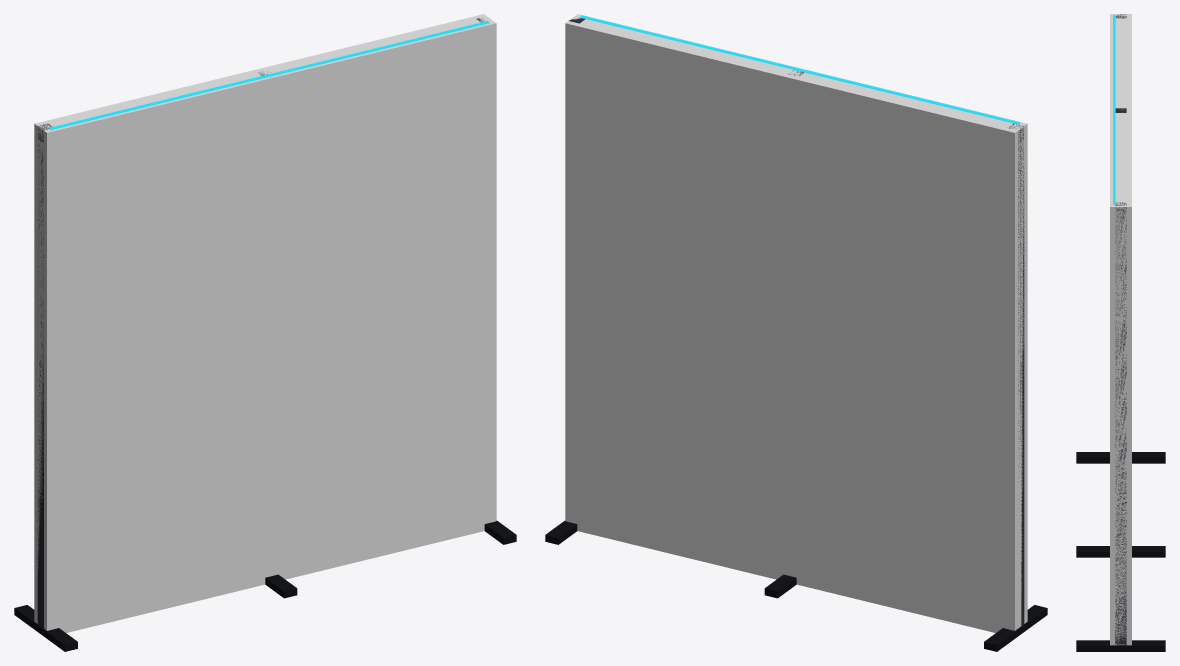
File: Furn_Divider_Glass.gltf
The picture shows the model from 3 angles, left to right: view 1: azimuth 30°, elevation 25°; view 2: azimuth 150°, elevation 25°; view 3: azimuth 270°, elevation 25°; orthographic projection. The views are drawn at different scales.
Parts seen in each view (by area): view 1: Furn_Divider_Glass_COL, Furn_Divider_Glass; view 2: Furn_Divider_Glass_COL, Furn_Divider_Glass; view 3: Furn_Divider_Glass_COL, Furn_Divider_Glass.
Part boxes in pixels (bbox=[...]): Furn_Divider_Glass_COL: bbox=[34, 14, 496, 632]; Furn_Divider_Glass: bbox=[14, 18, 516, 651]; Furn_Divider_Glass_COL: bbox=[565, 14, 1027, 632]; Furn_Divider_Glass: bbox=[545, 15, 1047, 651]; Furn_Divider_Glass_COL: bbox=[1110, 14, 1131, 645]; Furn_Divider_Glass: bbox=[1076, 14, 1165, 651].
Size of the model in its own units: 2.06 by 2.21 by 0.4.
